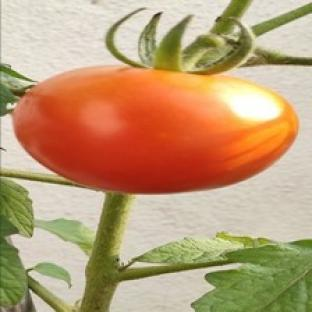Tomato: (13, 67, 298, 193)
